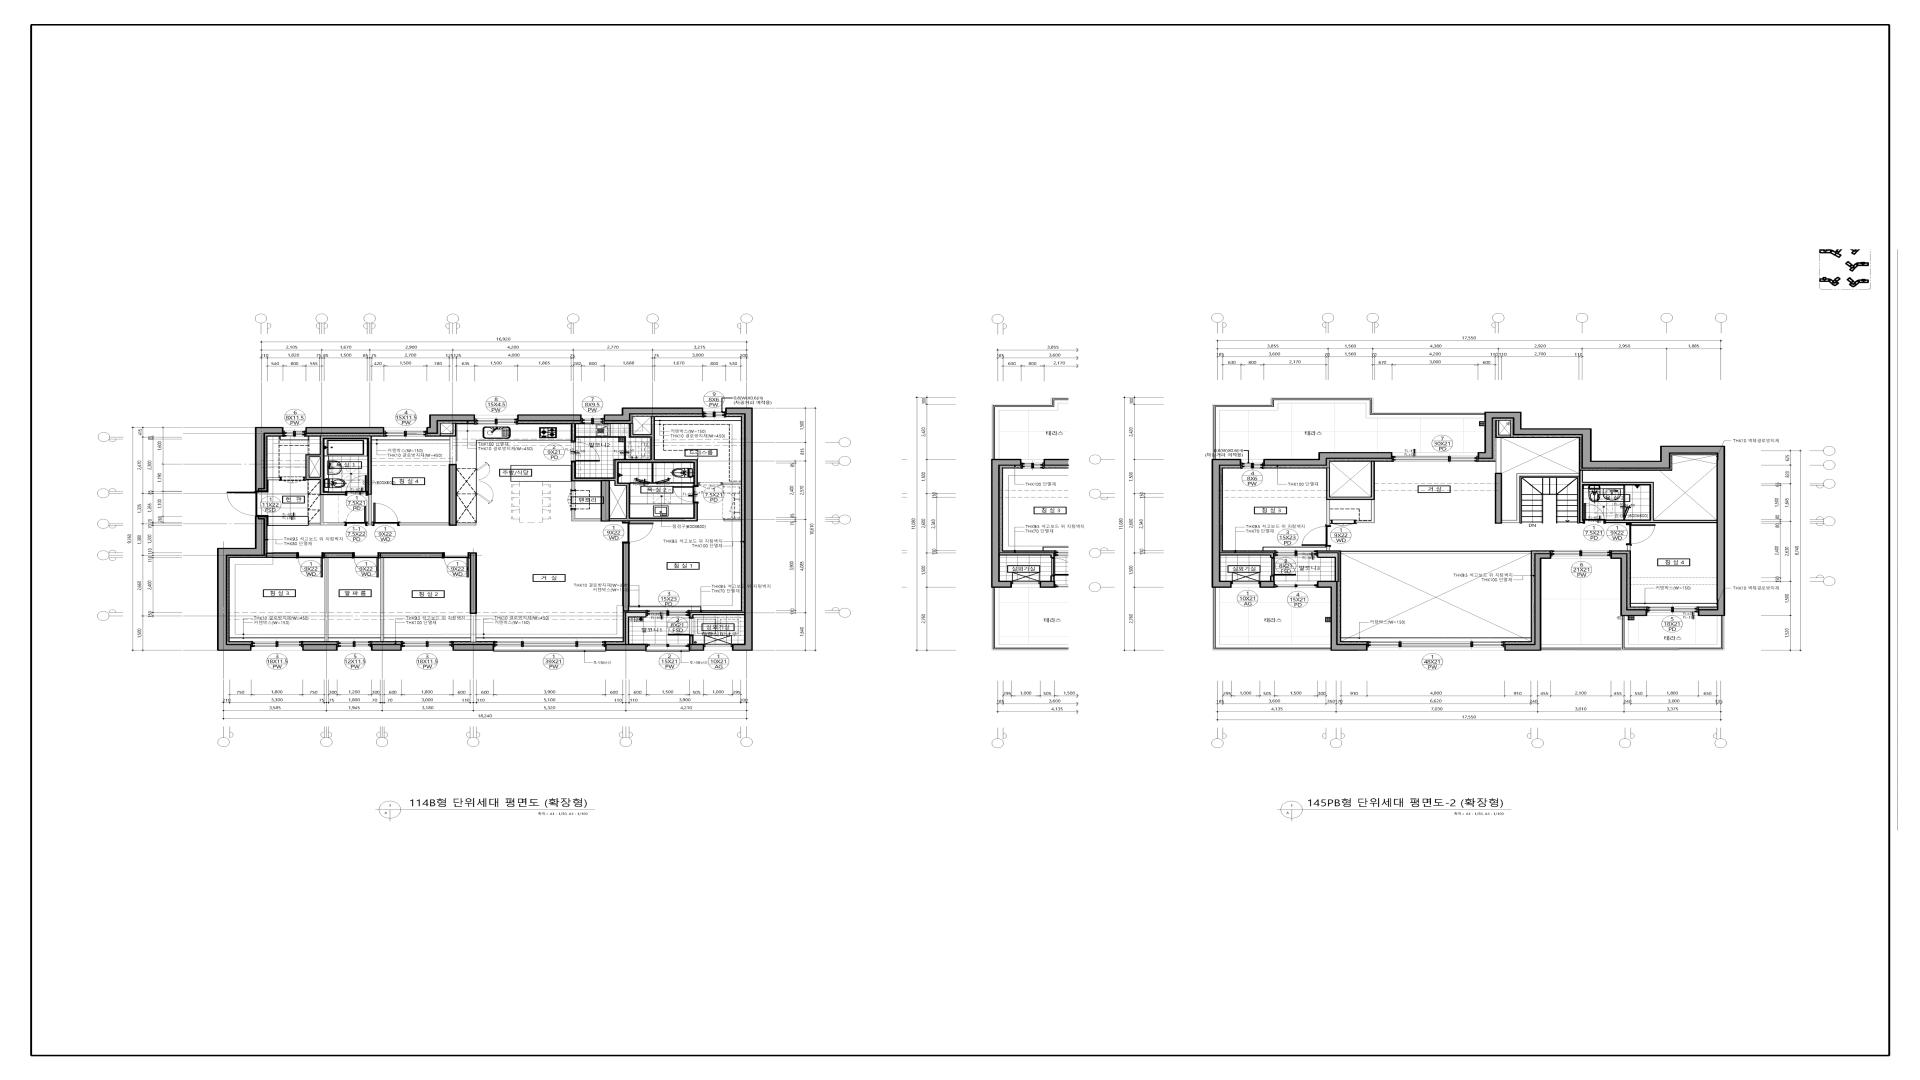door: (227, 492, 269, 516), (352, 553, 380, 578), (297, 553, 324, 578), (622, 522, 654, 543), (443, 553, 469, 578), (372, 502, 400, 526), (1626, 524, 1656, 545), (571, 440, 600, 462), (1302, 526, 1331, 547), (667, 617, 694, 636), (345, 475, 368, 496), (674, 485, 699, 504), (1584, 502, 1605, 524), (345, 506, 368, 526), (280, 476, 306, 484), (567, 491, 576, 509), (1331, 520, 1356, 526), (699, 483, 723, 489)
wall: (1478, 411, 1725, 616), (1212, 397, 1485, 459), (571, 417, 698, 521), (1502, 471, 1717, 524), (1212, 588, 1331, 650), (725, 407, 753, 651), (218, 516, 265, 651), (1542, 616, 1725, 650), (306, 435, 372, 525), (1505, 554, 1551, 651), (1212, 459, 1241, 588), (1317, 582, 1367, 651), (1327, 462, 1375, 526), (1610, 554, 1647, 616), (255, 427, 284, 491), (1263, 452, 1393, 465), (604, 407, 703, 422), (426, 414, 475, 434), (625, 612, 646, 644), (440, 423, 456, 464), (1317, 553, 1338, 582), (622, 543, 630, 612), (306, 427, 384, 434), (517, 414, 582, 422), (469, 553, 477, 615), (448, 464, 456, 526), (601, 481, 611, 522), (571, 509, 600, 521), (380, 553, 443, 558), (452, 644, 495, 651), (605, 644, 647, 651), (1495, 473, 1502, 524), (324, 558, 328, 641), (690, 612, 744, 617), (302, 644, 338, 651), (1221, 553, 1274, 558), (1495, 421, 1511, 438), (371, 644, 402, 651), (381, 558, 384, 641), (1495, 438, 1501, 473), (266, 553, 297, 558), (324, 553, 352, 558), (471, 615, 476, 642), (400, 522, 448, 525), (688, 644, 704, 651), (1259, 582, 1275, 588), (571, 423, 576, 440), (458, 522, 476, 525), (723, 483, 741, 485), (268, 477, 280, 480), (690, 636, 694, 644), (1270, 576, 1275, 582), (1627, 545, 1631, 551), (724, 520, 741, 521), (1327, 547, 1331, 550)
window: (1367, 641, 1505, 650), (495, 641, 605, 651), (1647, 607, 1698, 616), (1551, 550, 1610, 558), (252, 641, 302, 650), (402, 641, 452, 650), (1393, 456, 1478, 462), (475, 415, 517, 425), (384, 427, 426, 436), (646, 609, 690, 617), (647, 644, 688, 651), (338, 641, 371, 650), (1274, 550, 1317, 556), (1275, 582, 1317, 588), (703, 407, 725, 418), (284, 427, 306, 436), (582, 415, 604, 425), (704, 644, 732, 650), (1241, 463, 1263, 469), (1232, 582, 1259, 587)
